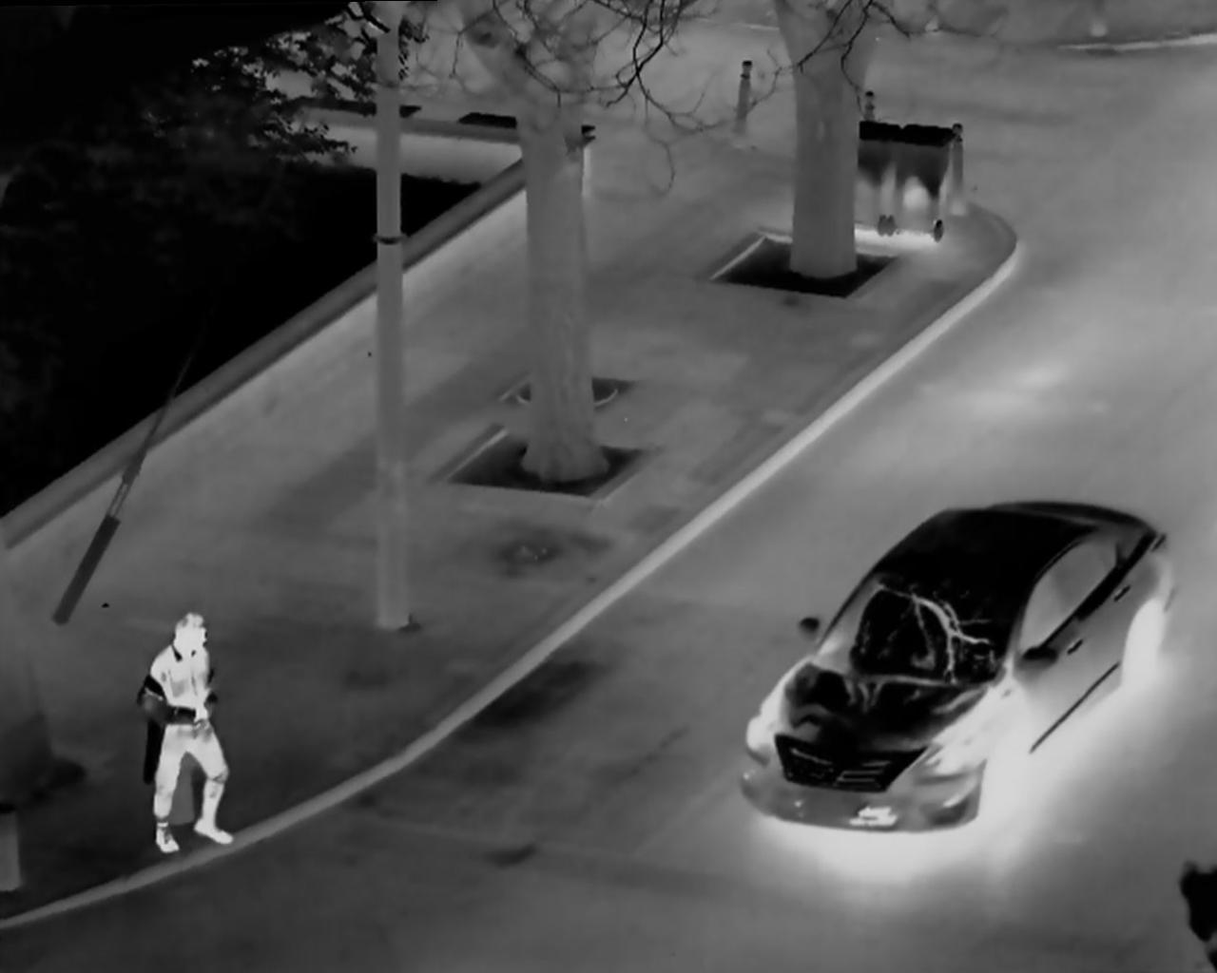person: (129, 603, 244, 853)
